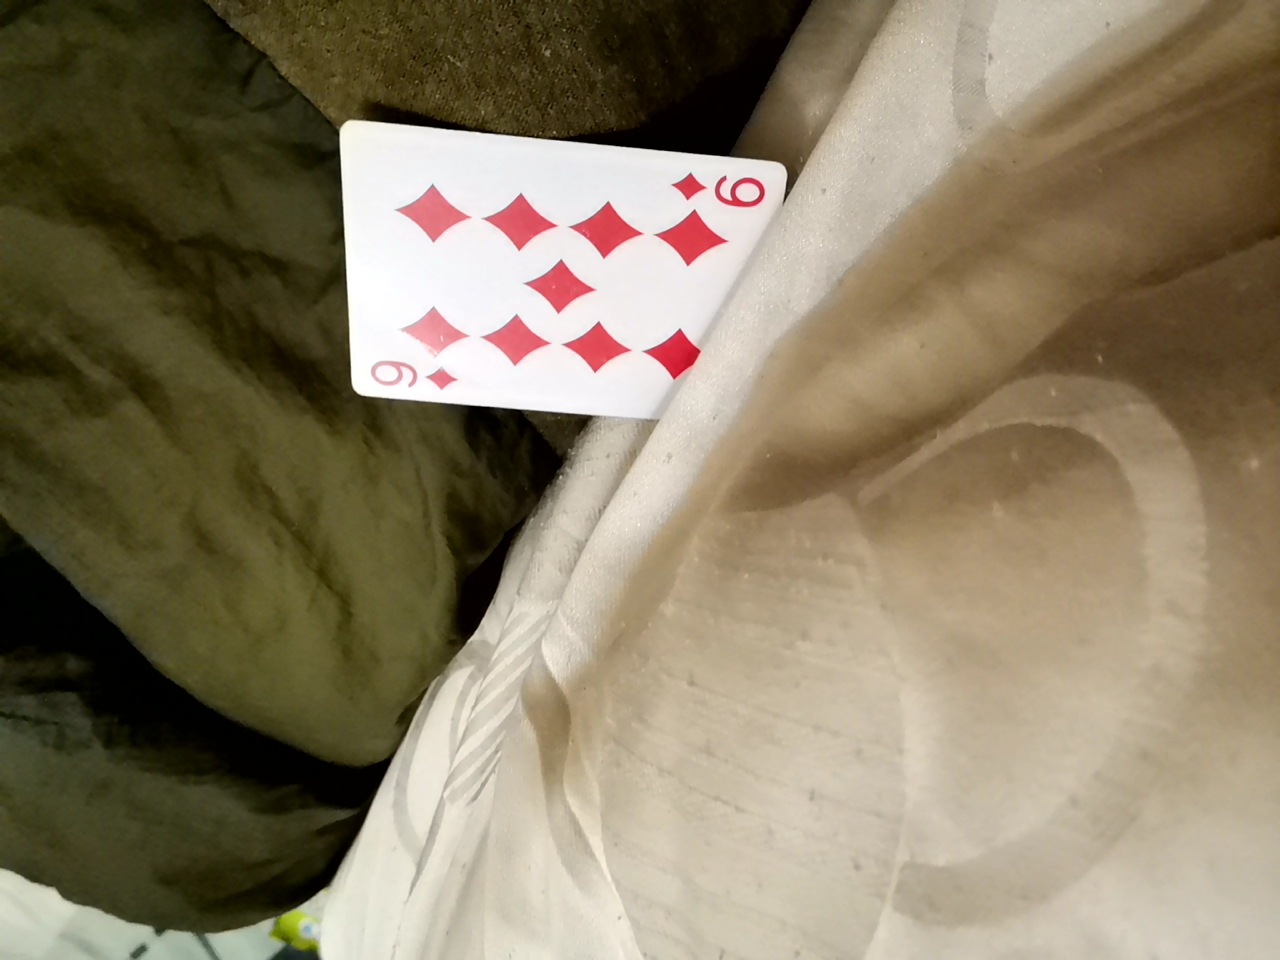fk 9: (315, 86, 755, 397)
